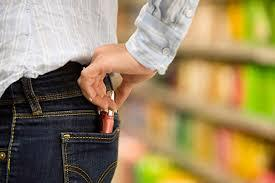shoplifting: (17, 27, 199, 163)
